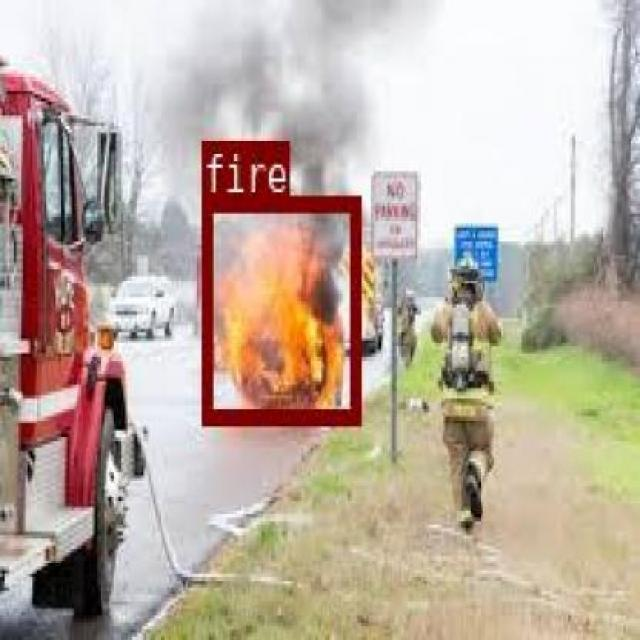Fire: (199, 195, 359, 422)
Smoke: (143, 21, 385, 136)
